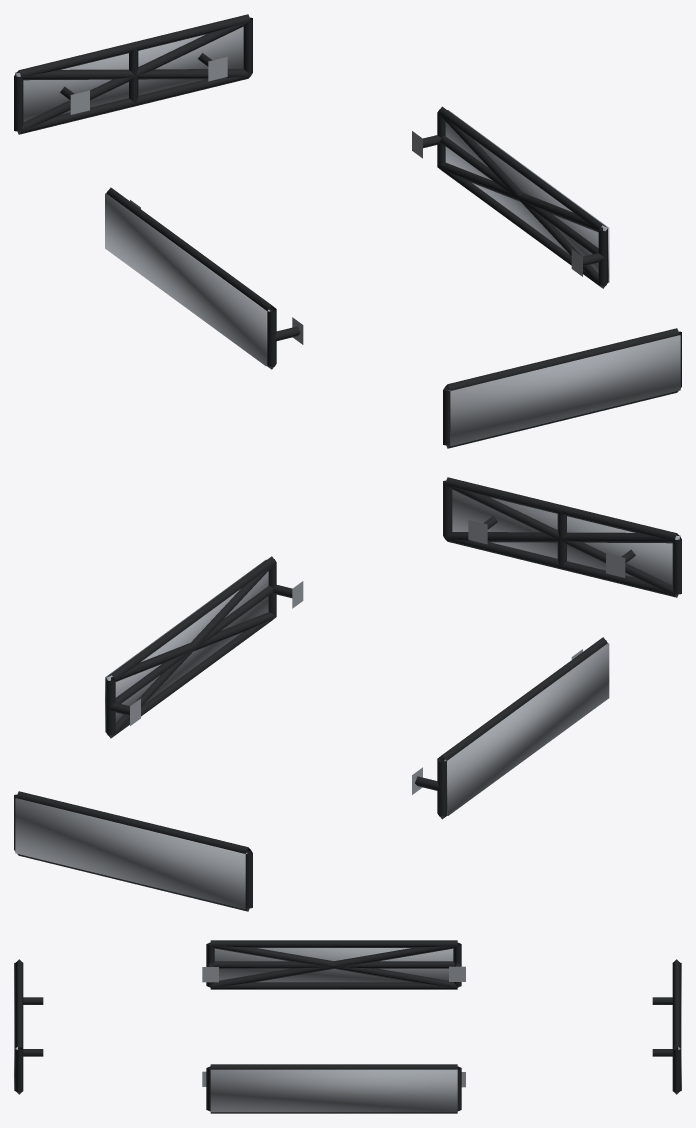
The model's file is garrison_ciranda_protecao.glb.
3 views of the same model, one above another, from view 1: azimuth 30°, elevation 25°; view 2: azimuth 150°, elevation 25°; view 3: azimuth 270°, elevation 25° (orthographic). The views are drawn at different scales.
Visible parts, largest first — view 1: Protection_front_Level3_Details, Protection_left_Level3_Details, Protection_rear_Level1_Details, Protection_rear_Level3_Details, Protection_right_Level1_Details, Protection_rear_Level2_Details, Protection_right_Level2_Details, Protection_right_Level3_Details, Protection_front_Level1_Details, Protection_left_Level1_Details; view 2: Protection_rear_Level3_Details, Protection_left_Level3_Details, Protection_front_Level1_Details, Protection_front_Level3_Details, Protection_right_Level1_Details, Protection_front_Level2_Details, Protection_right_Level2_Details, Protection_right_Level3_Details, Protection_rear_Level1_Details, Protection_left_Level1_Details; view 3: Protection_right_Level3_Details, Protection_left_Level2_Details, Protection_left_Level1_Details, Protection_left_Level3_Details, Protection_right_Level1_Details, Protection_rear_Level1_Details, Protection_front_Level1_Details.
Boxes of the visible parts, x1,y1,x2,y2 form: Protection_front_Level3_Details: [448, 335, 680, 446]; Protection_left_Level3_Details: [105, 193, 270, 366]; Protection_rear_Level1_Details: [14, 14, 252, 134]; Protection_rear_Level3_Details: [15, 26, 243, 122]; Protection_right_Level1_Details: [412, 106, 607, 288]; Protection_rear_Level2_Details: [16, 21, 250, 133]; Protection_right_Level2_Details: [438, 113, 606, 288]; Protection_right_Level3_Details: [445, 110, 609, 282]; Protection_front_Level1_Details: [443, 328, 681, 448]; Protection_left_Level1_Details: [106, 187, 303, 369]; Protection_rear_Level3_Details: [15, 798, 247, 909]; Protection_left_Level3_Details: [444, 643, 609, 815]; Protection_front_Level1_Details: [443, 477, 681, 597]; Protection_front_Level3_Details: [452, 489, 680, 585]; Protection_right_Level1_Details: [106, 556, 303, 738]; Protection_front_Level2_Details: [445, 484, 679, 596]; Protection_right_Level2_Details: [107, 563, 275, 737]; Protection_right_Level3_Details: [105, 559, 268, 732]; Protection_rear_Level1_Details: [14, 791, 252, 911]; Protection_left_Level1_Details: [412, 637, 607, 819]; Protection_right_Level3_Details: [210, 1069, 457, 1112]; Protection_left_Level2_Details: [210, 943, 457, 987]; Protection_left_Level1_Details: [202, 940, 465, 989]; Protection_left_Level3_Details: [214, 948, 453, 982]; Protection_right_Level1_Details: [202, 1064, 465, 1113]; Protection_rear_Level1_Details: [652, 959, 680, 1094]; Protection_front_Level1_Details: [15, 959, 43, 1094].
Size of the model in its own units: 1.97 by 0.354 by 4.33.
Materials: 1 (1 with a texture image).
